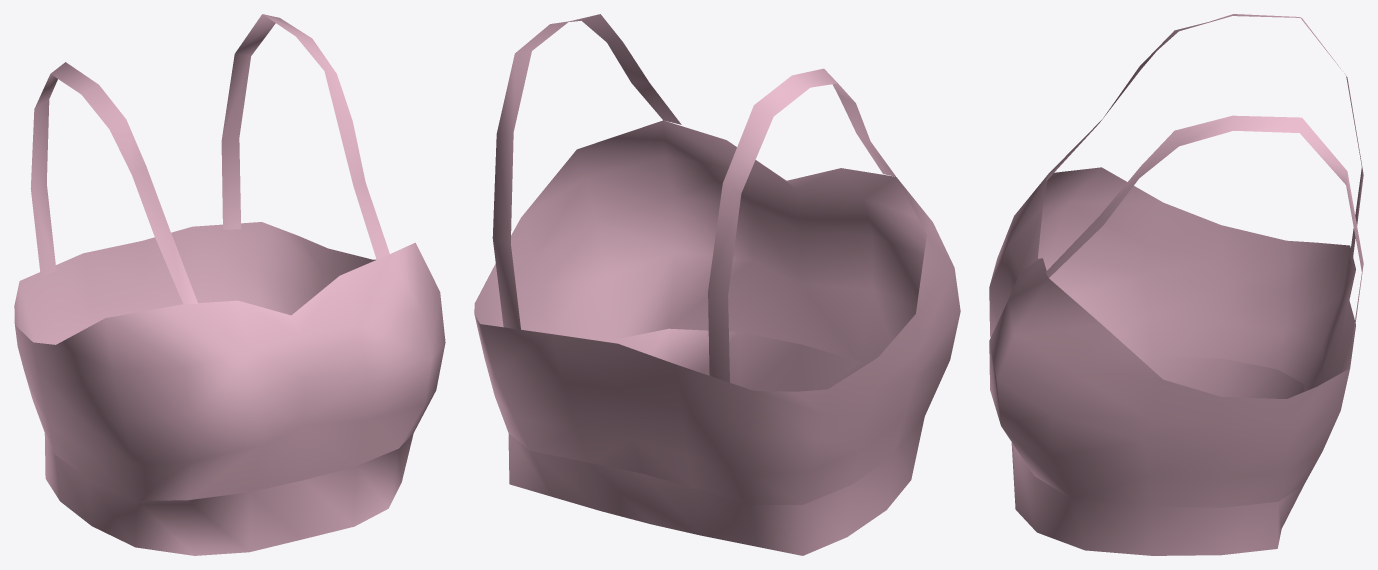
File: blouse_20.glb
The picture shows the model from 3 angles, left to right: view 1: azimuth 30°, elevation 25°; view 2: azimuth 150°, elevation 25°; view 3: azimuth 270°, elevation 25°; orthographic projection. The views are drawn at different scales.
Visible parts, largest first — view 1: blouse_20; view 2: blouse_20; view 3: blouse_20.
Part boxes in pixels (box(x1,y1,x2,y2)): blouse_20: box(14, 14, 445, 555); blouse_20: box(474, 14, 960, 555); blouse_20: box(989, 14, 1363, 555).
Size of the model in its own units: 0.2752 by 0.3025 by 0.2458.
